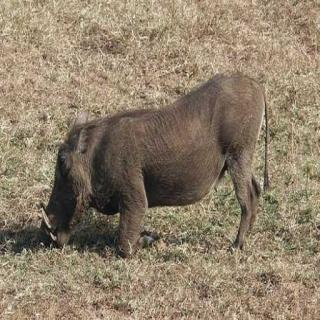Pig: (0, 47, 297, 249)
